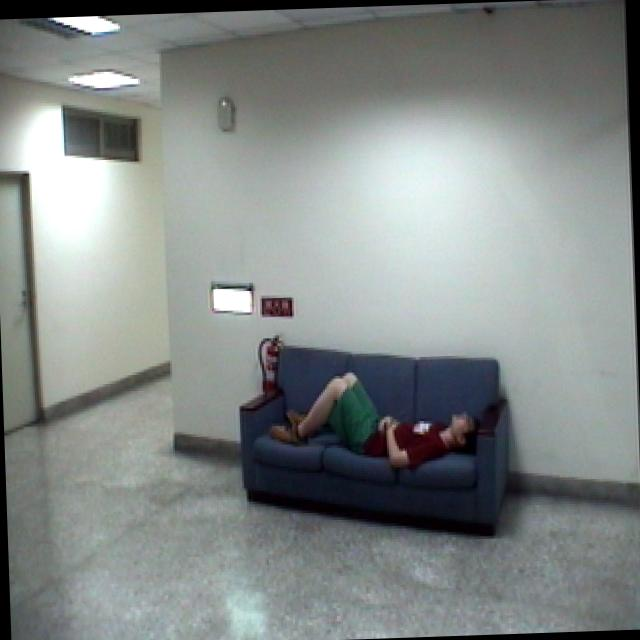lie: (262, 366, 479, 475)
